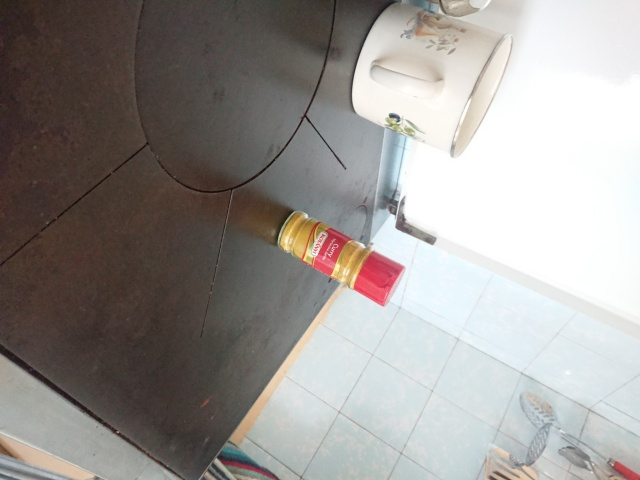Kotanyi Curry Spices Mix 70g: (275, 209, 407, 310)
